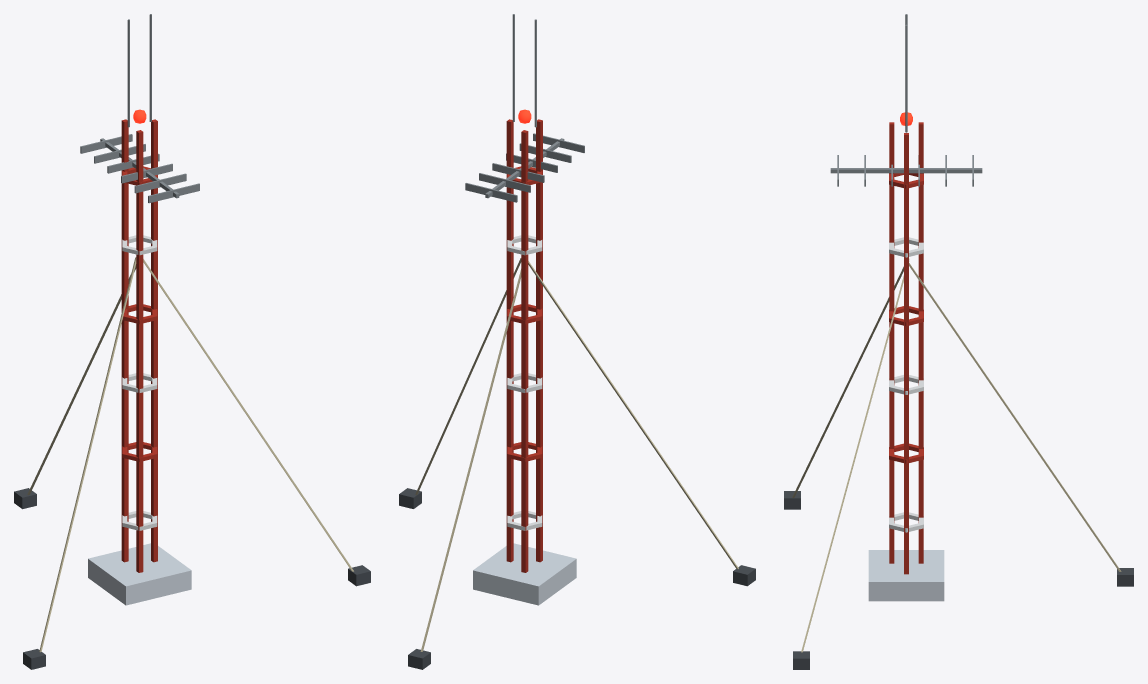
Rendered from so_antenna_mast.glb.
3 renders of one model, left to right at view 1: azimuth 30°, elevation 25°; view 2: azimuth 150°, elevation 25°; view 3: azimuth 270°, elevation 25°, orthographic.
Parts seen in each view (by area): view 1: so_antenna_mast; view 2: so_antenna_mast; view 3: so_antenna_mast.
Part boxes in pixels (<box>): so_antenna_mast: <box>14,14,370,669</box>; so_antenna_mast: <box>399,14,755,669</box>; so_antenna_mast: <box>784,14,1133,669</box>.
Bounding box in the file's own units: 4.7 × 7.4 × 4.15.
